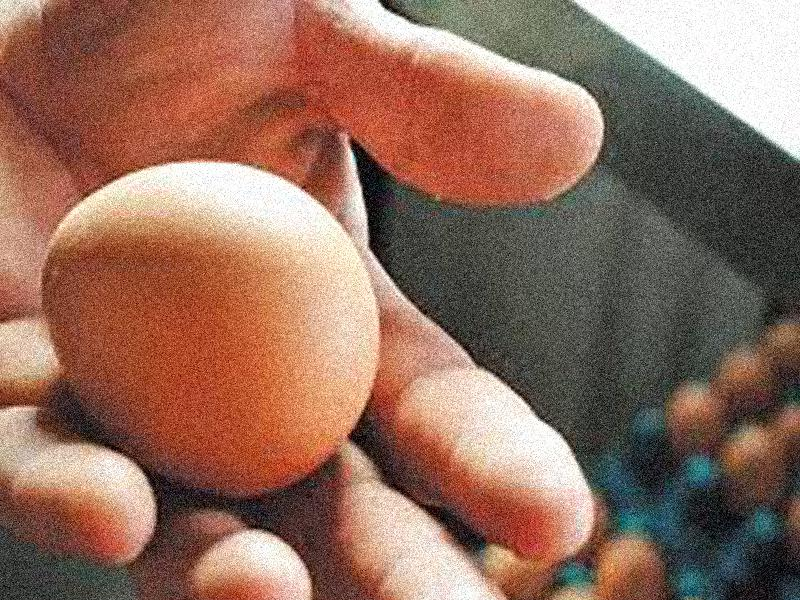Eggs: (35, 163, 381, 502)
